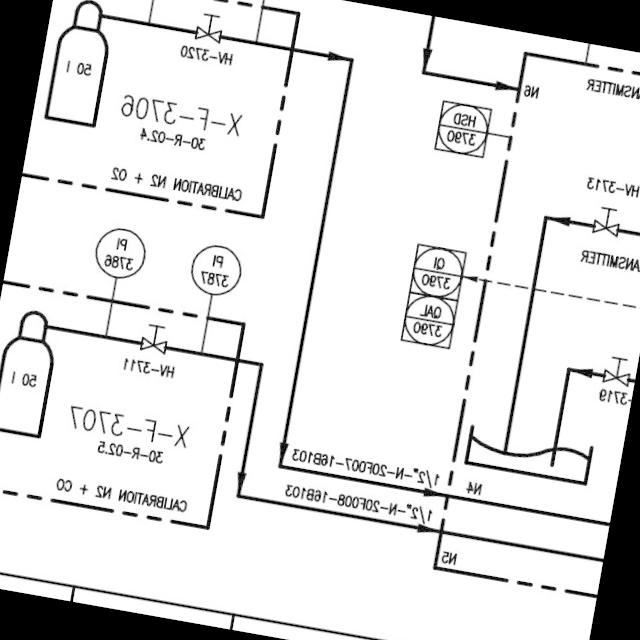HV: (586, 198, 626, 241), (190, 5, 228, 44), (598, 350, 634, 390), (136, 318, 172, 356)
